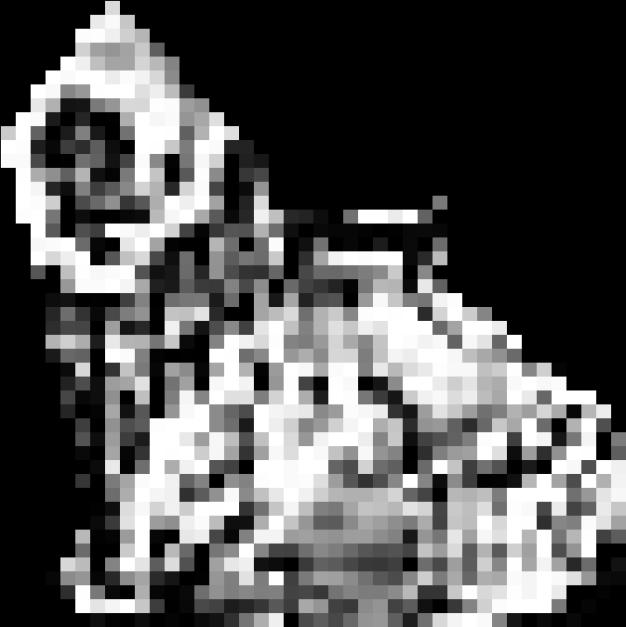tumor_good_chance: (1, 1, 626, 627)
